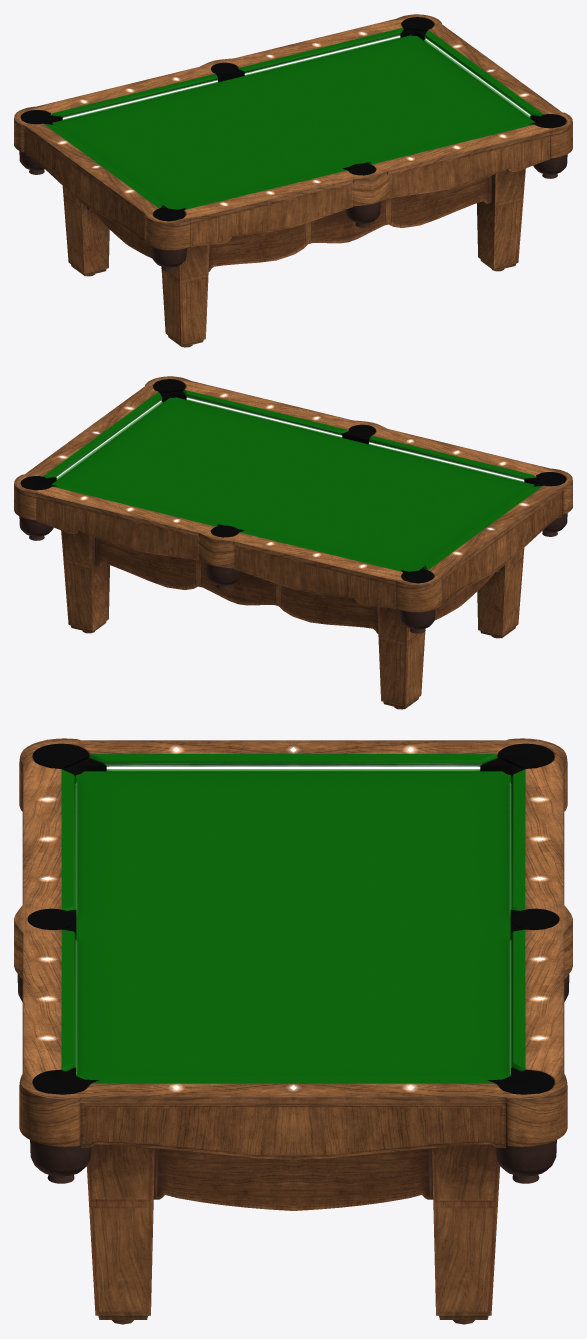
File: ClassicTable.fbx
The picture shows the model from 3 angles, top to bottom: view 1: azimuth 30°, elevation 25°; view 2: azimuth 150°, elevation 25°; view 3: azimuth 270°, elevation 25°; orthographic projection. The views are drawn at different scales.
Parts seen in each view (by area): view 1: classic-table, classic-4ball_fillers; view 2: classic-table, classic-4ball_fillers; view 3: classic-table, classic-4ball_fillers.
Part boxes in pixels (bbox=[...]): classic-table: bbox=[14, 14, 572, 347]; classic-4ball_fillers: bbox=[20, 17, 566, 221]; classic-table: bbox=[14, 376, 572, 709]; classic-4ball_fillers: bbox=[20, 379, 566, 583]; classic-table: bbox=[14, 738, 572, 1324]; classic-4ball_fillers: bbox=[27, 743, 559, 1094].
Size of what is drawn, in the model's own units: 252 by 87.41 by 165.
